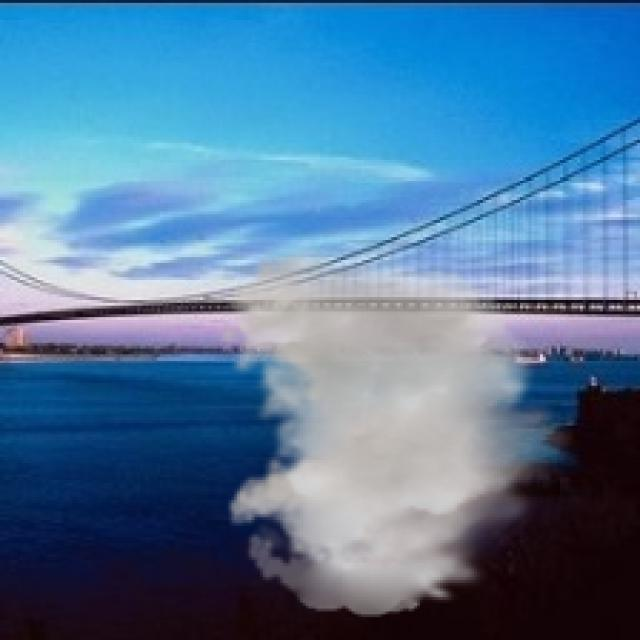Smoke: (215, 252, 580, 617)
